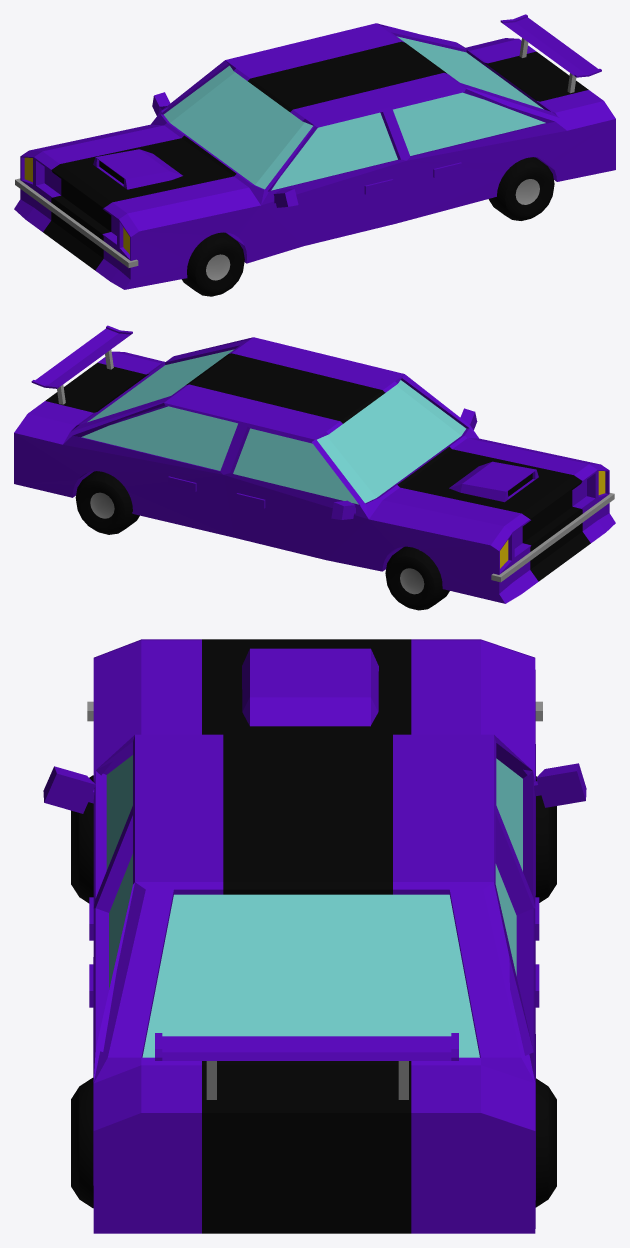
Rendered from Car004.FBX.
3 views of the same model, one above another, from view 1: azimuth 30°, elevation 25°; view 2: azimuth 150°, elevation 25°; view 3: azimuth 270°, elevation 25° (orthographic). The views are drawn at different scales.
Visible parts, largest first — view 1: Cube, Cylinder002, Cylinder001, Cube_009, Plane_001, Cube_001, Cube_008; view 2: Cube, Cylinder001, Cylinder002, Cube_009, Plane_001, Cube_001, Cube_010; view 3: Cube, Cube_009, Plane_001, Cylinder002, Cylinder001, Cube_010, Cube_008.
Boxes of the visible parts, x1=… form: Cube: x1=14, y1=23, x2=615, y2=289; Cylinder002: x1=488, y1=157, x2=554, y2=220; Cylinder001: x1=182, y1=232, x2=244, y2=296; Cube_009: x1=93, y1=149, x2=182, y2=189; Plane_001: x1=500, y1=14, x2=601, y2=77; Cube_001: x1=15, y1=178, x2=138, y2=267; Cube_008: x1=273, y1=188, x2=298, y2=207; Cube: x1=14, y1=337, x2=615, y2=603; Cylinder001: x1=385, y1=546, x2=449, y2=610; Cylinder002: x1=75, y1=471, x2=139, y2=534; Cube_009: x1=449, y1=461, x2=538, y2=502; Plane_001: x1=31, y1=325, x2=132, y2=388; Cube_001: x1=491, y1=493, x2=614, y2=582; Cube_010: x1=331, y1=500, x2=355, y2=519; Cube: x1=93, y1=639, x2=535, y2=1233; Cube_009: x1=242, y1=648, x2=378, y2=726; Plane_001: x1=155, y1=1033, x2=458, y2=1060; Cylinder002: x1=71, y1=1078, x2=556, y2=1208; Cylinder001: x1=71, y1=775, x2=556, y2=903; Cube_010: x1=534, y1=763, x2=586, y2=807; Cube_008: x1=43, y1=766, x2=95, y2=813.
Bounding box in the file's own units: 96.68 × 25.29 × 45.94.
